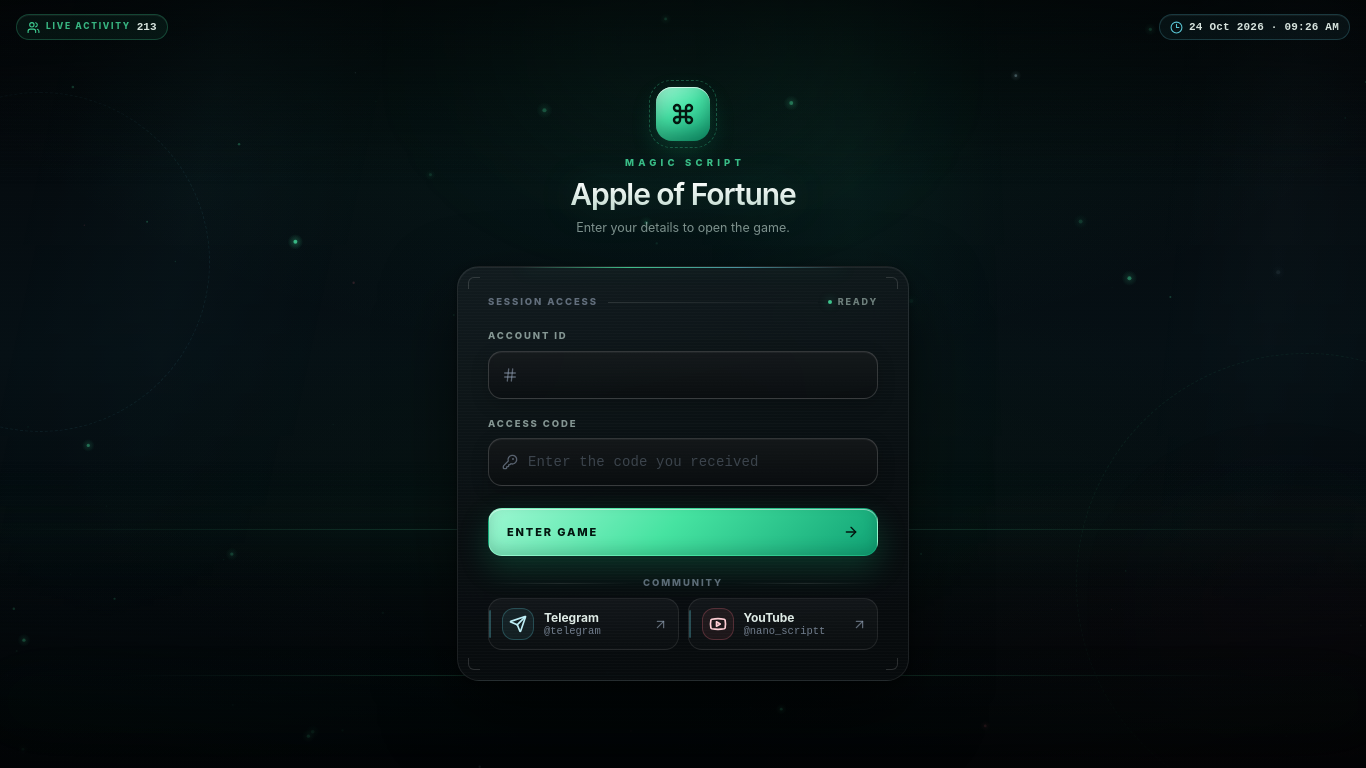
Test case: Apple of Fortune login screen › rejects an empty Access Code
Type "123456789" into the field labelled "Account ID" at (696, 375), box [528, 352, 864, 398]
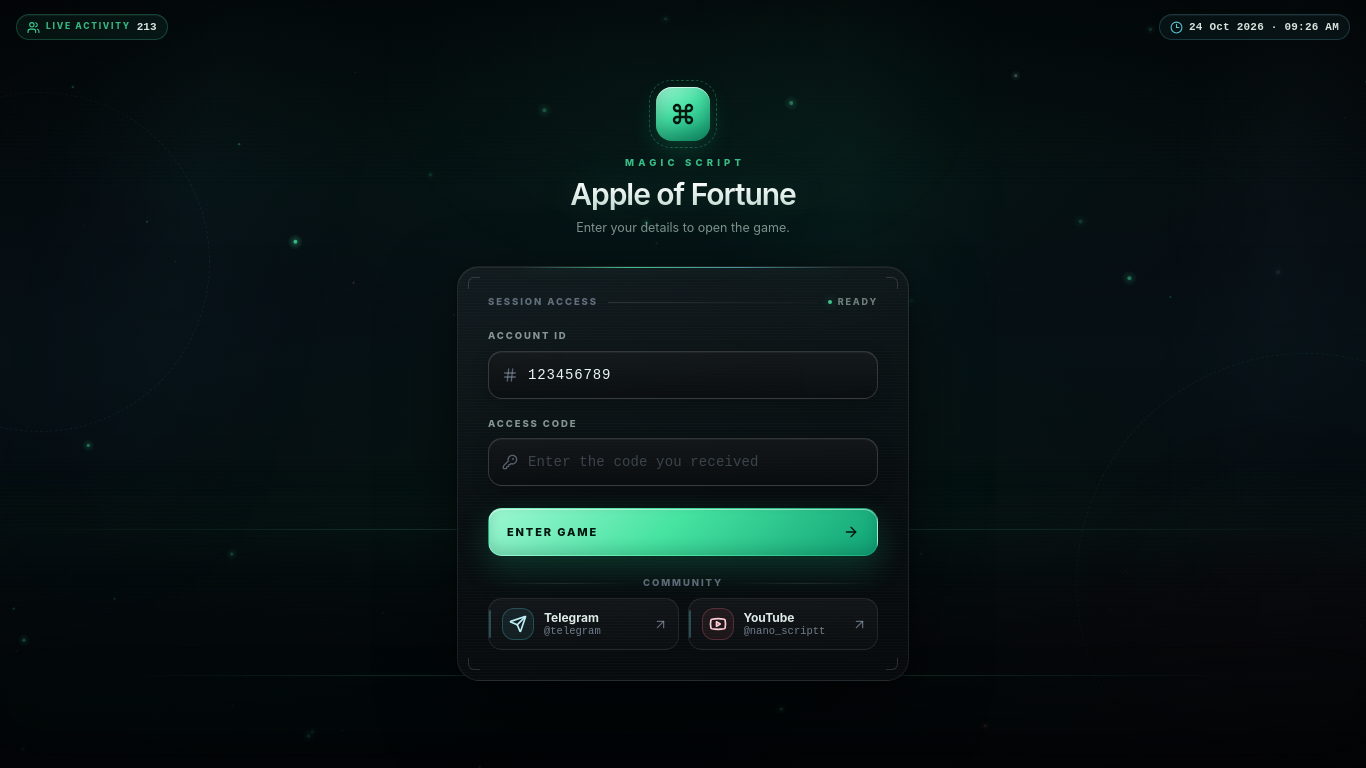
Click the button "Enter game" at (553, 532), box [488, 508, 878, 556]
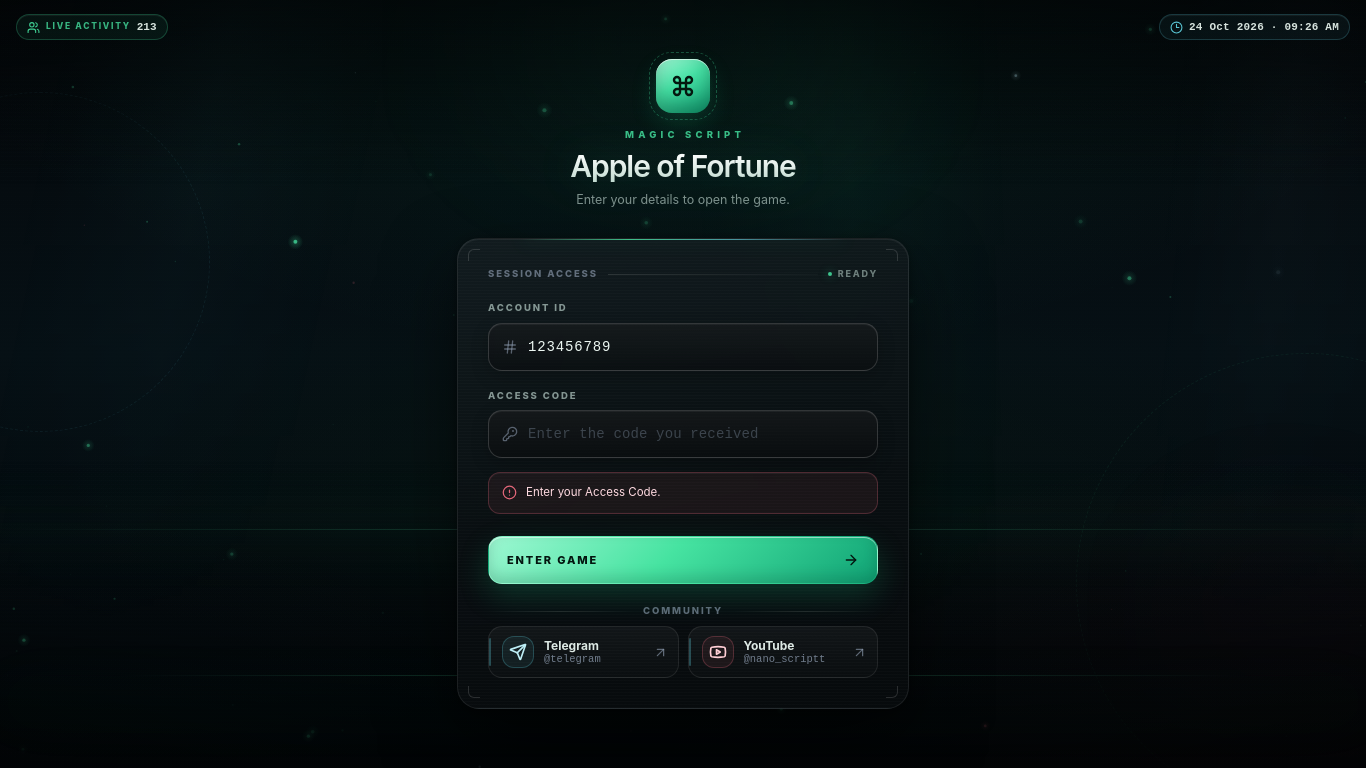
expect the message reads "Enter your Access Code.": met, box [526, 485, 661, 499]
